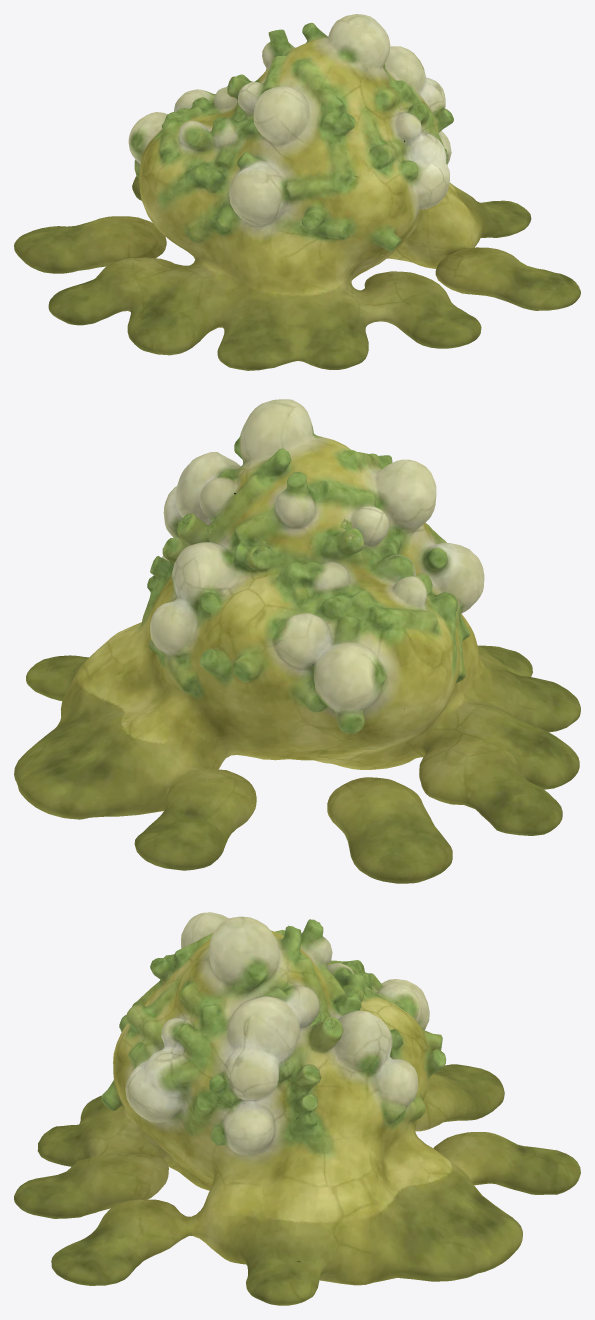
Rendered from boss-colossus.glb.
3 views of the same model, one above another, from view 1: azimuth 30°, elevation 25°; view 2: azimuth 150°, elevation 25°; view 3: azimuth 270°, elevation 25° (orthographic). The views are drawn at different scales.
Visible parts, largest first — view 1: attack-membrane; view 2: attack-membrane; view 3: attack-membrane.
Part boxes in pixels (<box>): attack-membrane: <box>14,14,580,370</box>; attack-membrane: <box>14,399,580,883</box>; attack-membrane: <box>14,912,580,1305</box>.
Size of the model in its own units: 1.99 by 1.15 by 1.95.
Materials: 1 (1 with a texture image).
